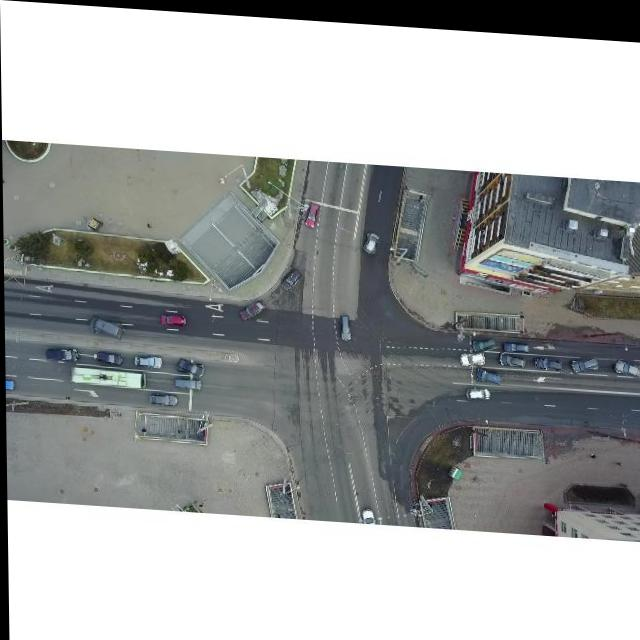vehicle: (88, 316, 123, 337), (279, 262, 303, 290), (238, 296, 267, 319), (45, 346, 79, 362), (175, 357, 205, 375), (569, 348, 598, 366), (472, 361, 502, 378), (457, 344, 486, 361), (469, 331, 496, 348), (613, 352, 640, 369), (132, 352, 162, 367), (532, 349, 562, 364), (362, 225, 379, 250), (497, 347, 526, 361), (337, 309, 352, 336), (304, 198, 319, 225), (160, 310, 186, 325), (96, 350, 122, 365), (465, 381, 490, 395)
